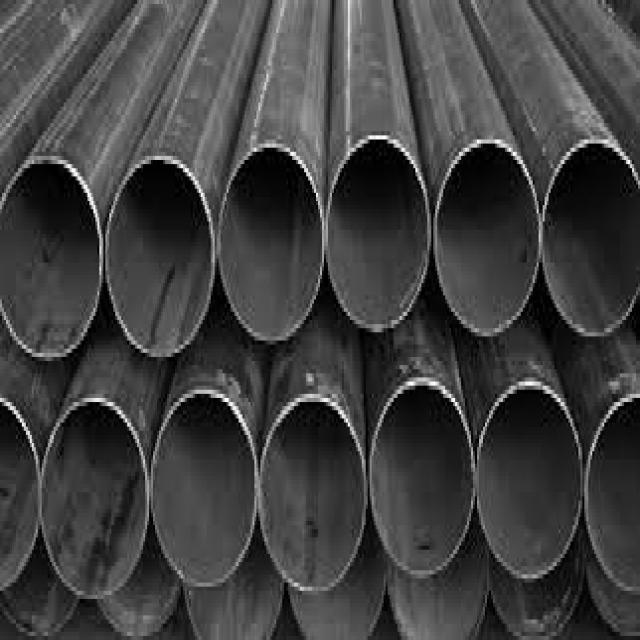pipe: (107, 162, 212, 357), (42, 405, 147, 600), (436, 144, 540, 336), (220, 149, 323, 342), (152, 396, 255, 588), (0, 164, 101, 359), (328, 140, 430, 332), (261, 404, 365, 592), (479, 391, 582, 580), (372, 388, 474, 578), (544, 145, 640, 336)
